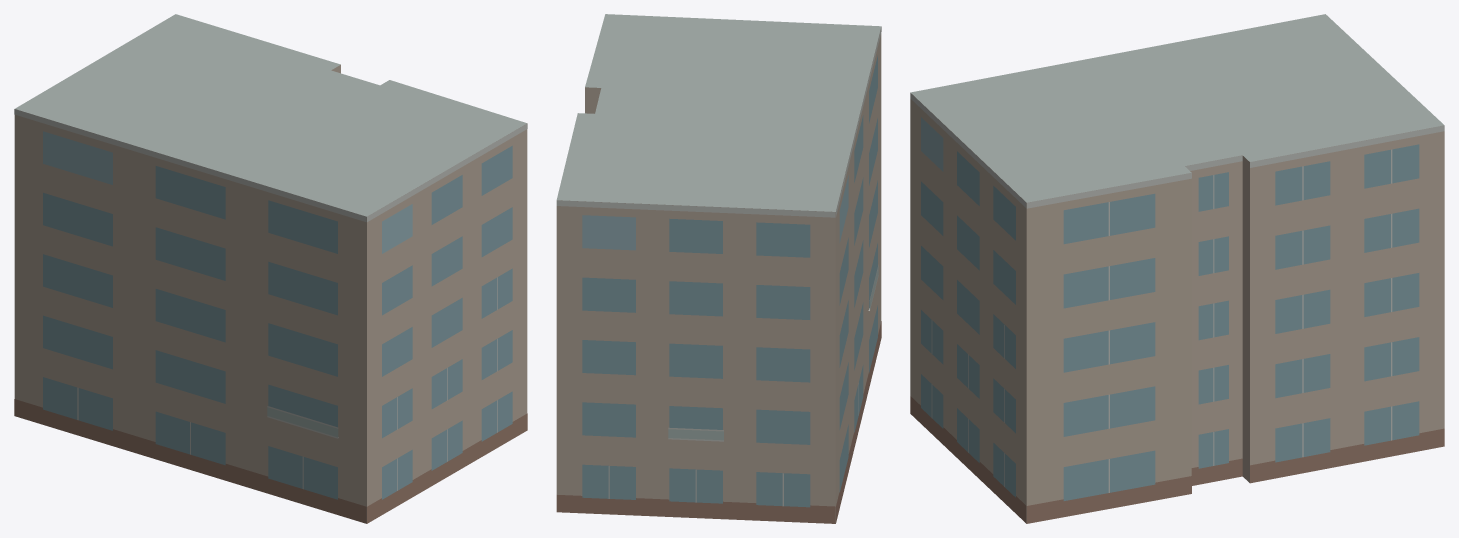
File: survey-upis-32747991.glb
3 renders of one model, left to right at view 1: azimuth 30°, elevation 25°; view 2: azimuth 150°, elevation 25°; view 3: azimuth 270°, elevation 25°, orthographic. The views are drawn at different scales.
Visible parts, largest first — view 1: survey-upis-32747991.tmp; view 2: survey-upis-32747991.tmp; view 3: survey-upis-32747991.tmp.
Part boxes in pixels (x1,y1,x2,y2): survey-upis-32747991.tmp: [14, 14, 527, 523]; survey-upis-32747991.tmp: [556, 14, 881, 523]; survey-upis-32747991.tmp: [910, 14, 1444, 523].
Size of the model in its own units: 16.65 by 13.2 by 19.91.
